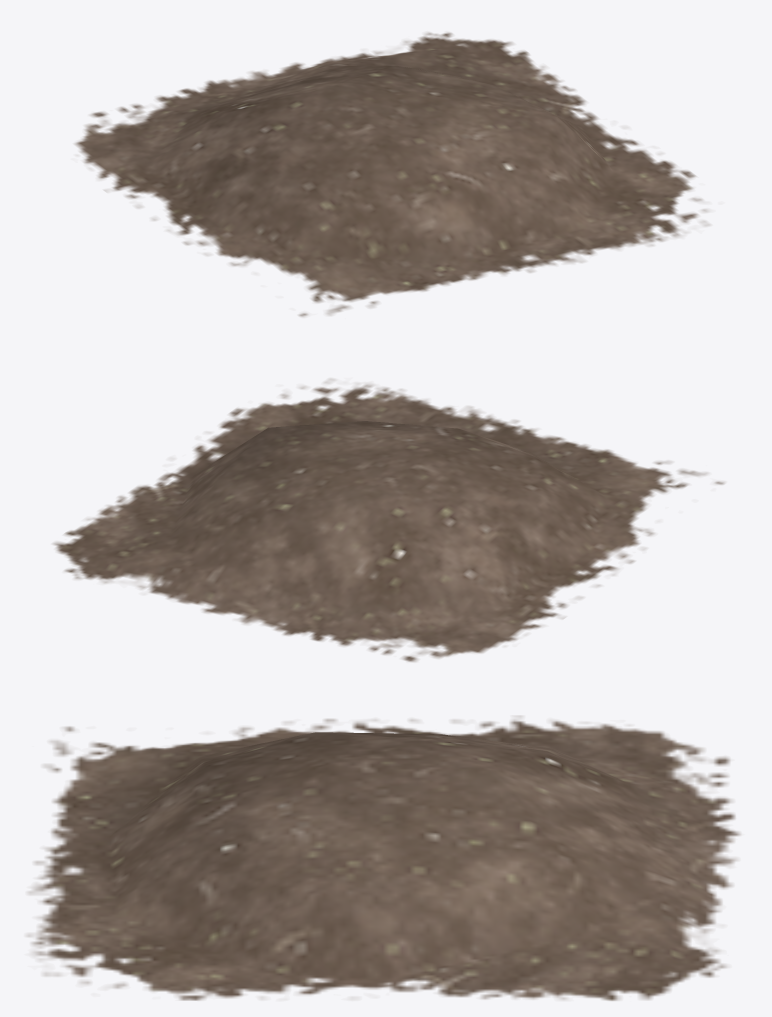
The model's file is soil_pile.gltf.
3 views of the same model, one above another, from view 1: azimuth 30°, elevation 25°; view 2: azimuth 150°, elevation 25°; view 3: azimuth 270°, elevation 25° (orthographic). The views are drawn at different scales.
Visible parts, largest first — view 1: soil_pile.001; view 2: soil_pile.001; view 3: soil_pile.001.
Part boxes in pixels (x1=…): soil_pile.001: x1=74, y1=32, x2=709, y2=316; soil_pile.001: x1=53, y1=378, x2=724, y2=661; soil_pile.001: x1=27, y1=716, x2=740, y2=1000.
Size of the model in its own units: 0.8529 by 0.1056 by 0.9308.
Materials: 1 (1 with a texture image).
